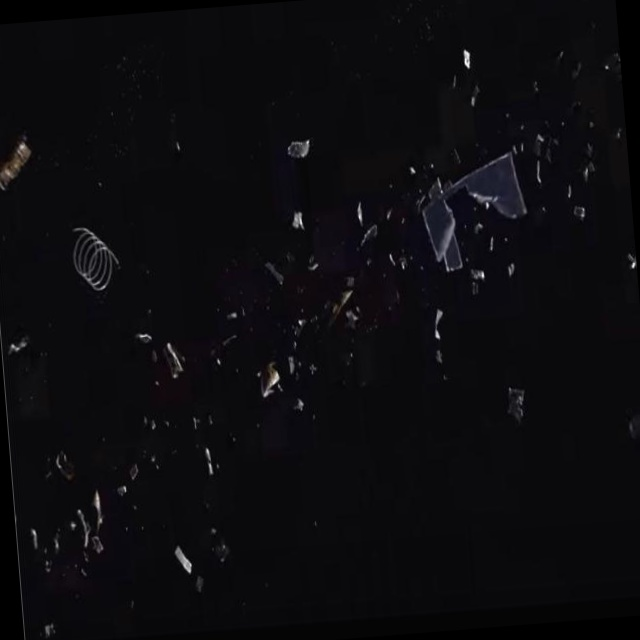large_debris: (412, 131, 535, 287), (62, 204, 131, 311), (70, 478, 110, 565), (0, 123, 41, 204), (274, 128, 325, 179), (253, 349, 290, 408), (170, 531, 199, 584), (160, 332, 186, 390), (502, 380, 532, 430)
